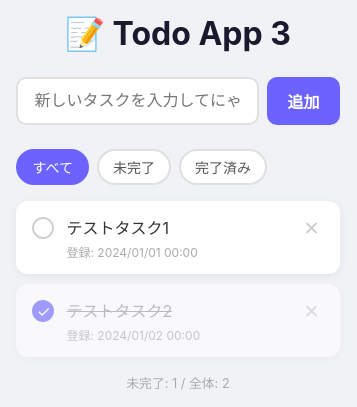
TodoApp › フィルター機能 › フィルター切り替え後に「すべて」に戻ると全件表示される
Expected: the text "テストタスク1" is shown, [66, 218, 169, 238]
Click the button "未完了".
click(134, 167)  # box [97, 149, 171, 185]
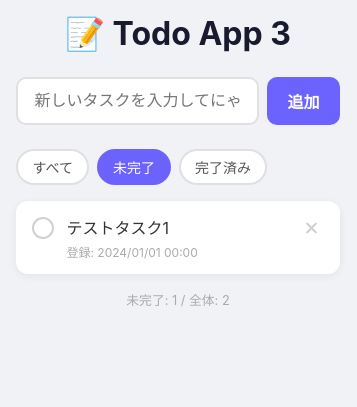
Click the button "すべて".
click(53, 167)  # box [16, 149, 89, 185]
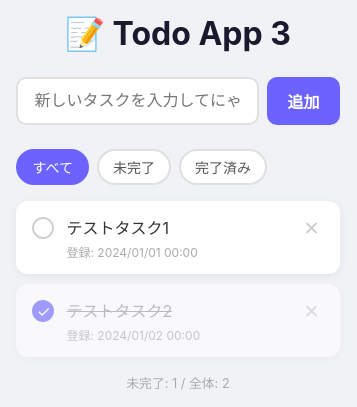
Expected: the text "テストタスク1" is shown, [66, 218, 169, 238]
Now the text "テストタスク2" is shown, box [66, 301, 172, 321]
